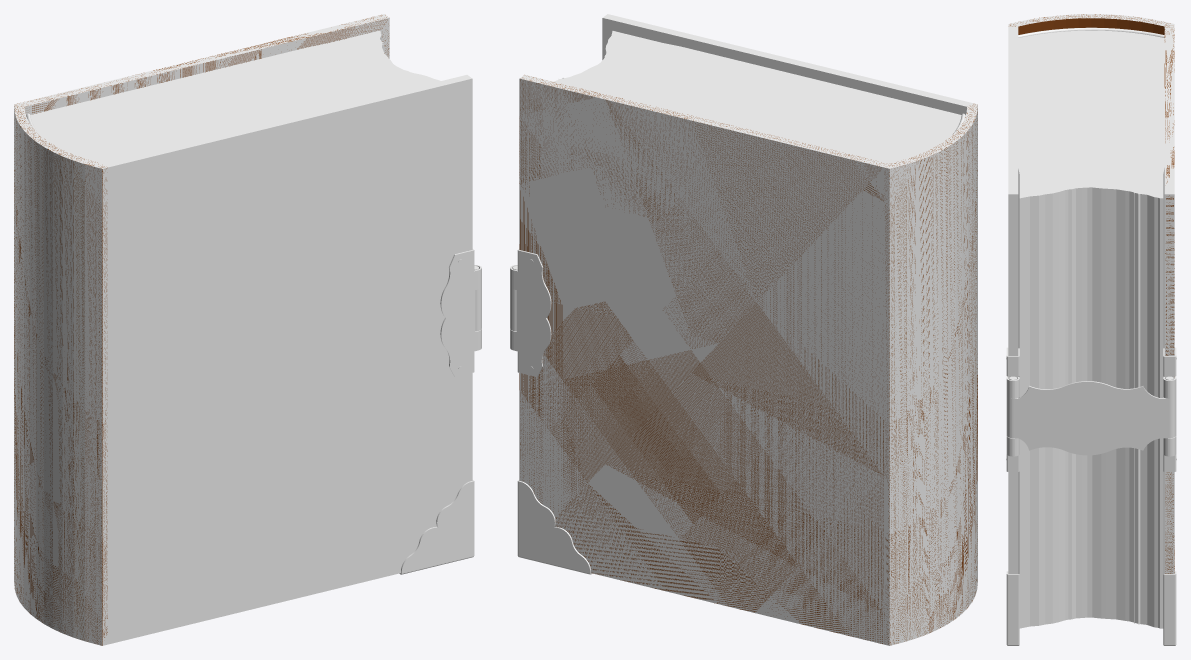
3 views of the same model, side by side, from view 1: azimuth 30°, elevation 25°; view 2: azimuth 150°, elevation 25°; view 3: azimuth 270°, elevation 25° (orthographic). The views are drawn at different scales.
Visible parts, largest first — view 1: old bible; view 2: old bible; view 3: old bible.
Boxes of the visible parts, x1,y1,x2,y2 form: old bible: (14, 14, 481, 645); old bible: (510, 14, 977, 645); old bible: (1006, 14, 1176, 645).
Size of the model in its own units: 8.7 by 9.87 by 3.38.
